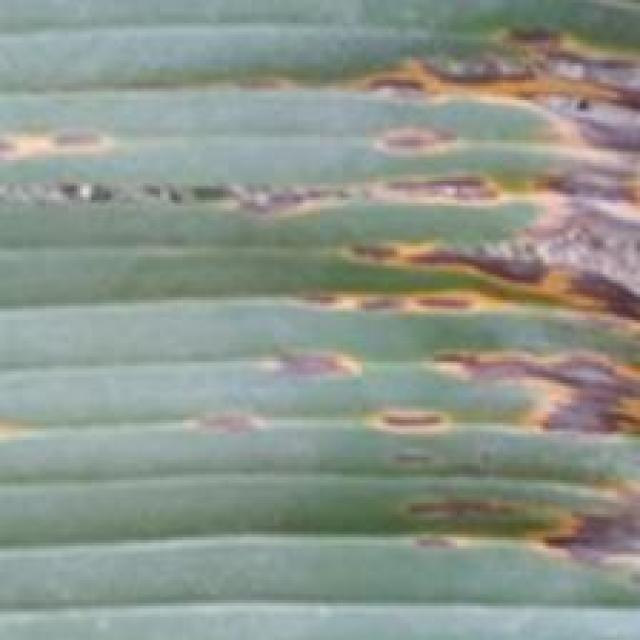Early_leaf_spot: (194, 14, 640, 609), (0, 100, 140, 174)
